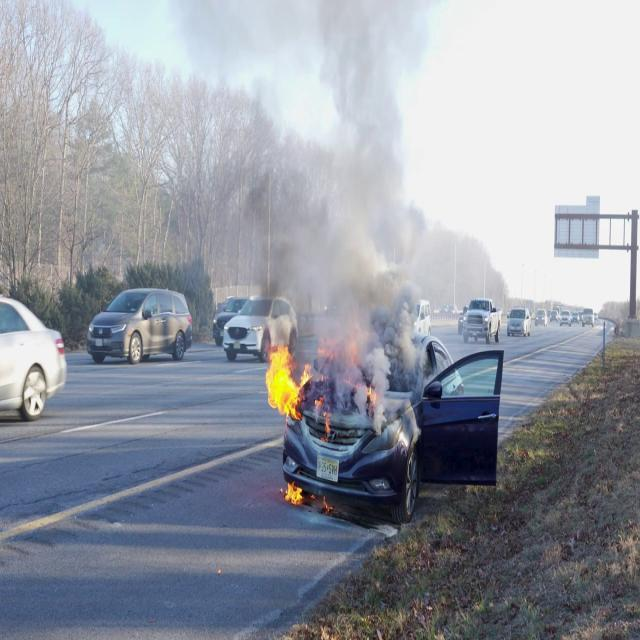Fire: (264, 331, 312, 418), (282, 476, 306, 506)
Smoke: (240, 1, 434, 412)
